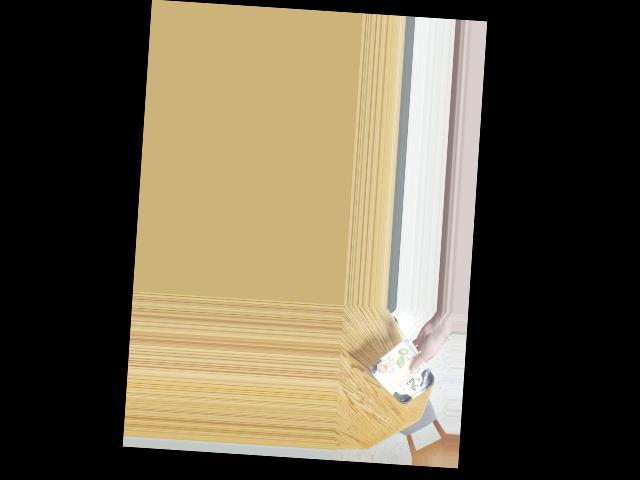cheese: (373, 355, 432, 397)
